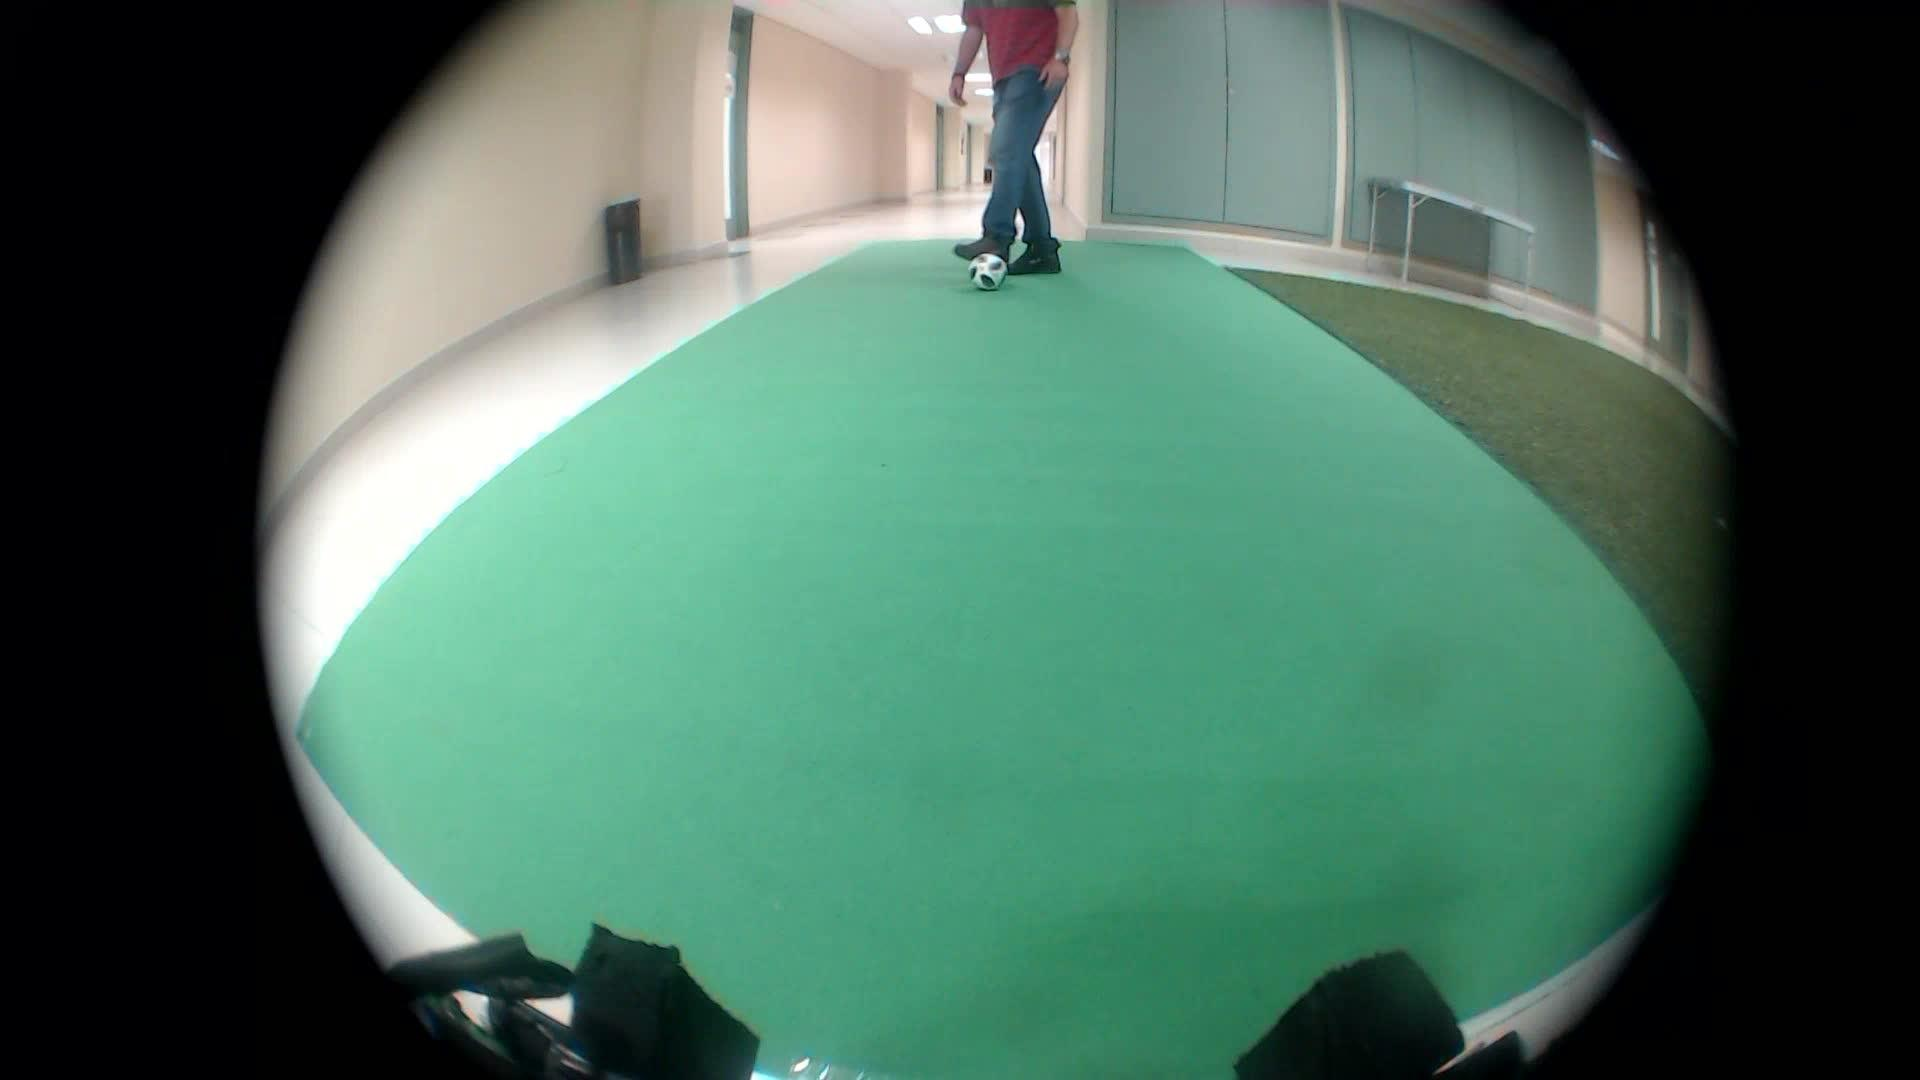ball: (964, 244, 1013, 297)
